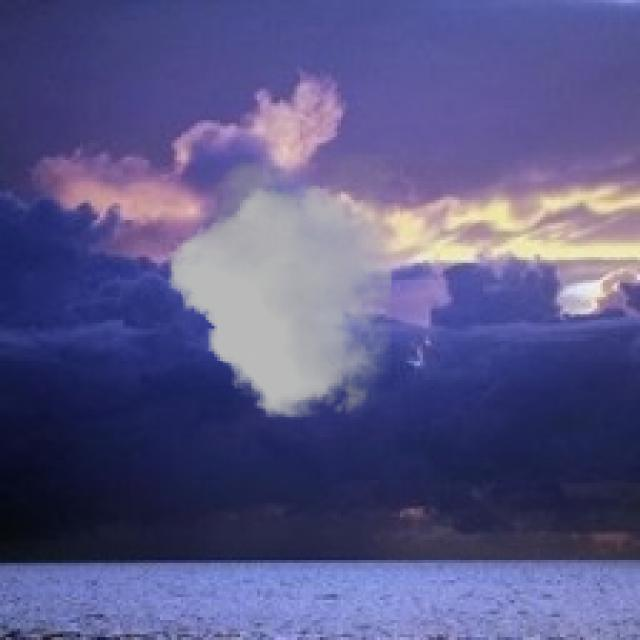smoke: (168, 154, 392, 423)
